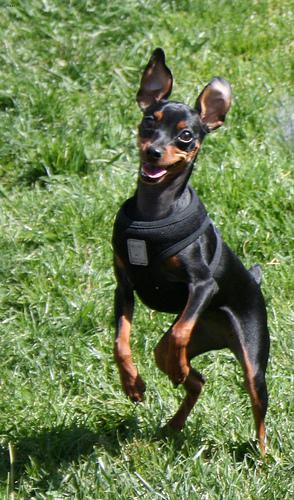dog-miniature_pinscher: (134, 46, 231, 185)
